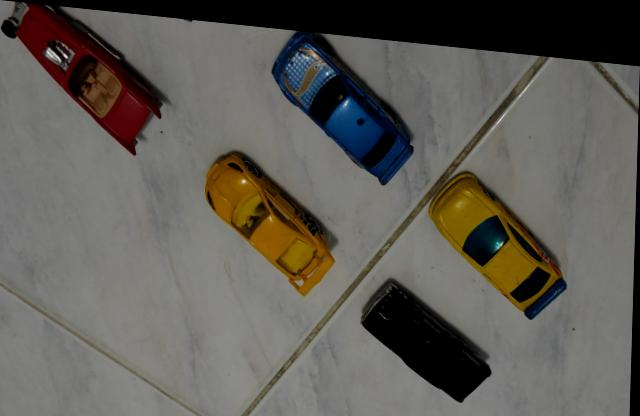01_FORD: (362, 268, 496, 391)
02_OZSOME: (428, 159, 571, 310)
03_V8: (0, 1, 168, 151)
04_MERZEDES: (270, 24, 415, 177)
07_RHLTURBO: (205, 144, 338, 288)
